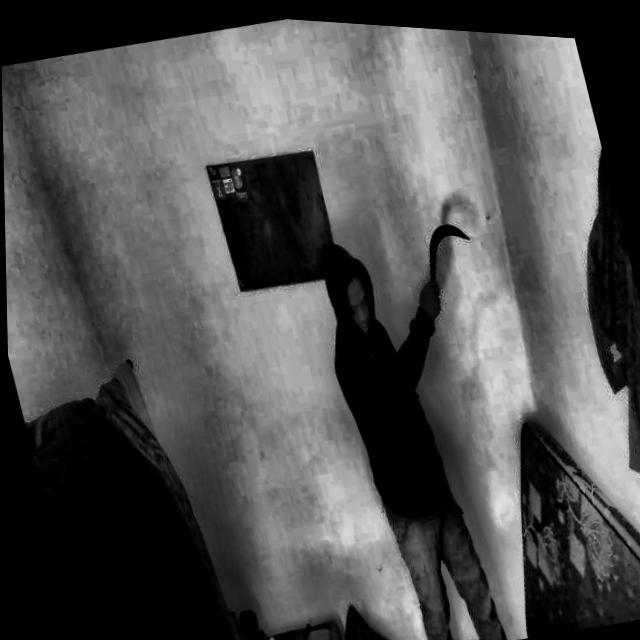celurit: (421, 211, 474, 334)
